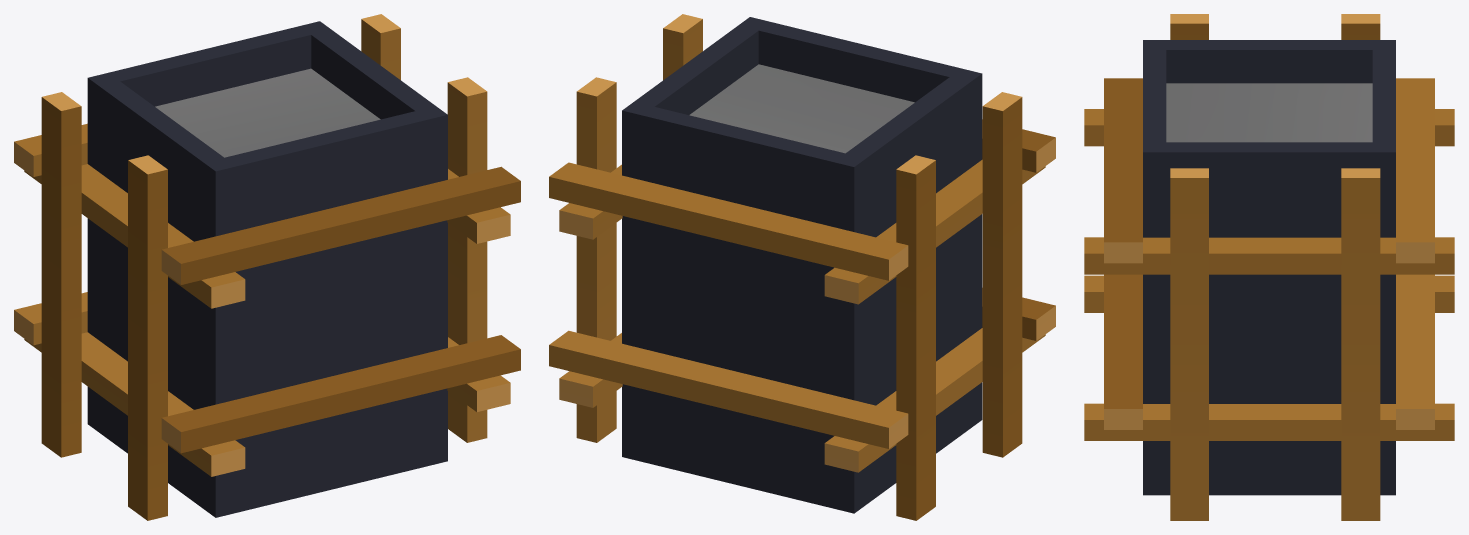
File: ConcrateFrame_2_3.obj
3 views of the same model, side by side, from view 1: azimuth 30°, elevation 25°; view 2: azimuth 150°, elevation 25°; view 3: azimuth 270°, elevation 25° (orthographic).
Visible parts, largest first — view 1: ConcrateFrame_2_3; view 2: ConcrateFrame_2_3; view 3: ConcrateFrame_2_3.
Part boxes in pixels (x1=…): ConcrateFrame_2_3: x1=14, y1=14, x2=520, y2=520; ConcrateFrame_2_3: x1=549, y1=14, x2=1055, y2=520; ConcrateFrame_2_3: x1=1084, y1=14, x2=1454, y2=520.
Bounding box in the file's own units: 1.48 × 1.44 × 1.41.
